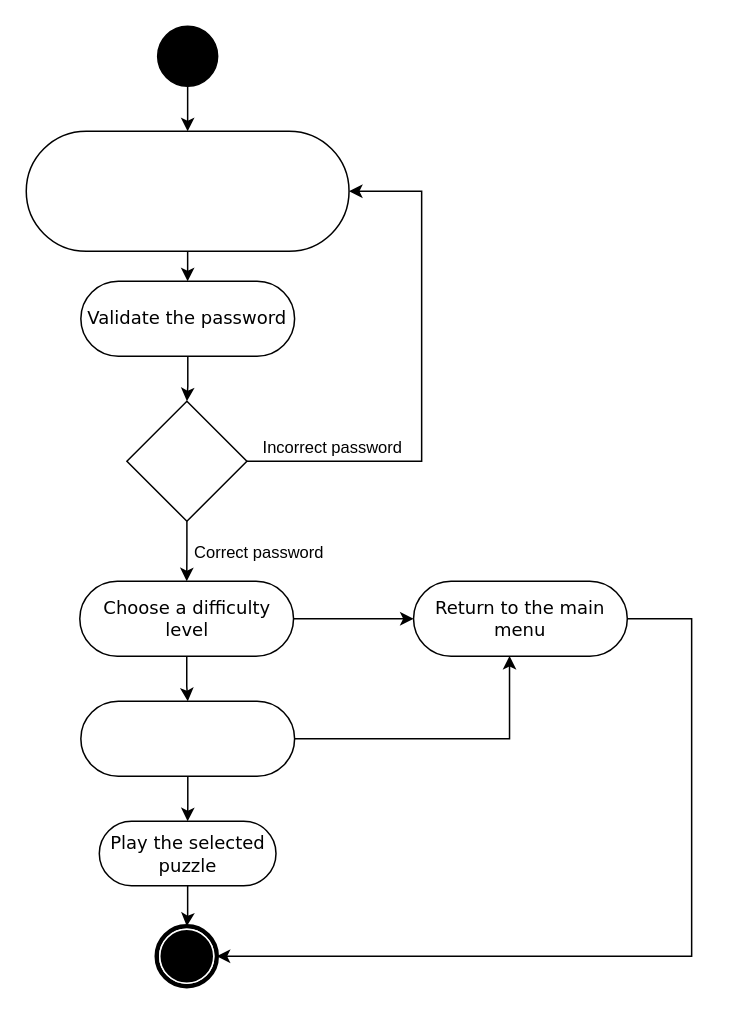
This 731x1013 diagram has some shape labels left out. Here are the shapes that lost their labels. From the top down, the centre of each, then its label:
At [187,190]: "Implicitly enter the hardcode password for debug mode on main menu".
At [187,738]: "Choose a puzzle within this difficulity level".
